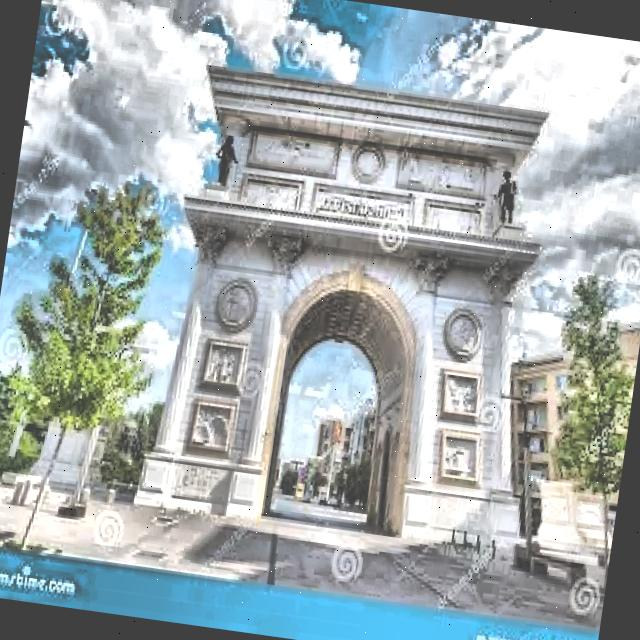triumphal arch: (137, 39, 592, 564)
